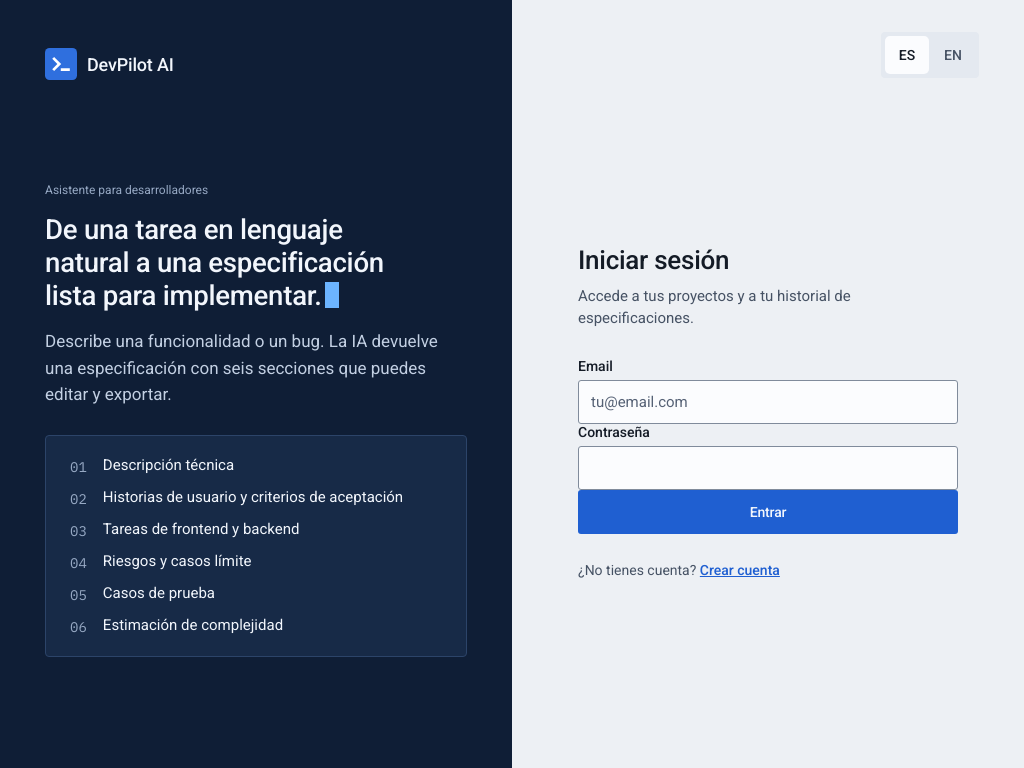
Scenario: signing in › stays on the login page with a generic message when the credentials are wrong
In the field labelled "Email": (768, 402) 578,380 -> 958,424, type "lucia@example.com"
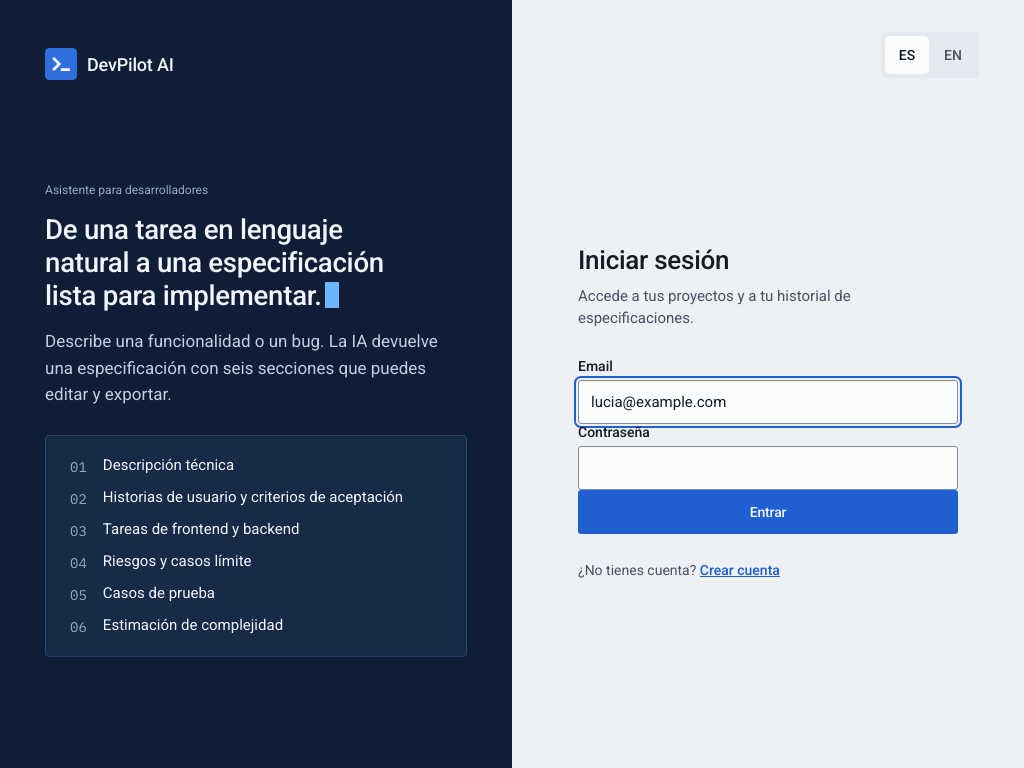
In the password field labelled "Contraseña": (768, 468) 578,446 -> 958,490, type "wrong password"
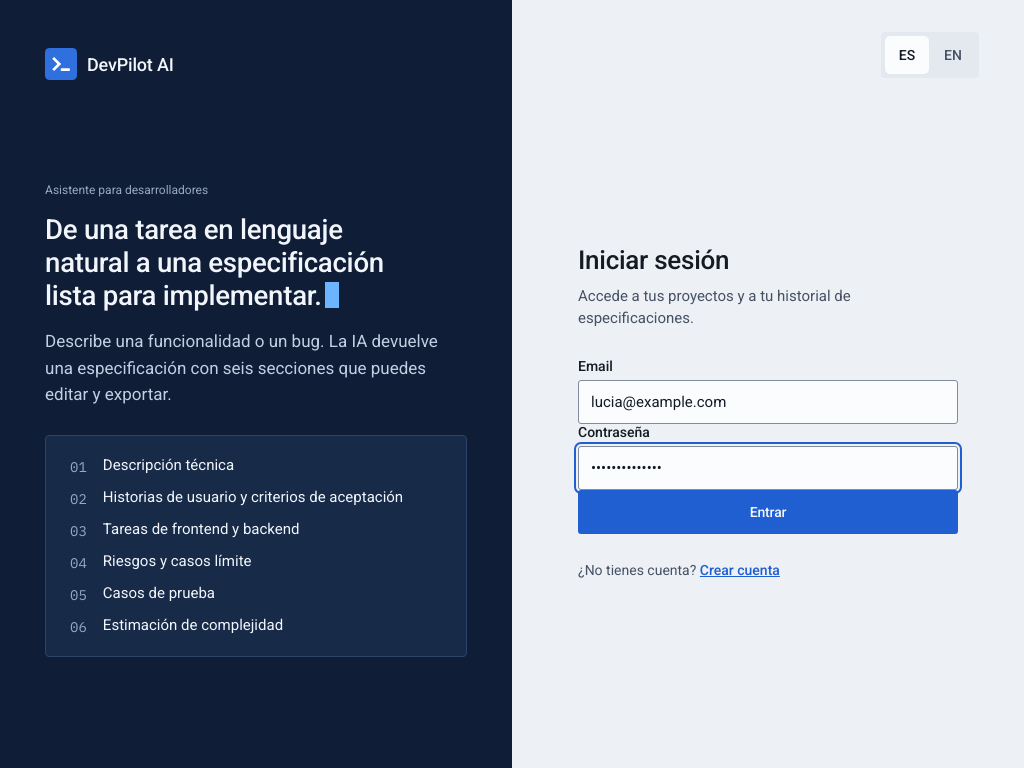
Click the button "Entrar": (768, 512) 578,490 -> 958,534
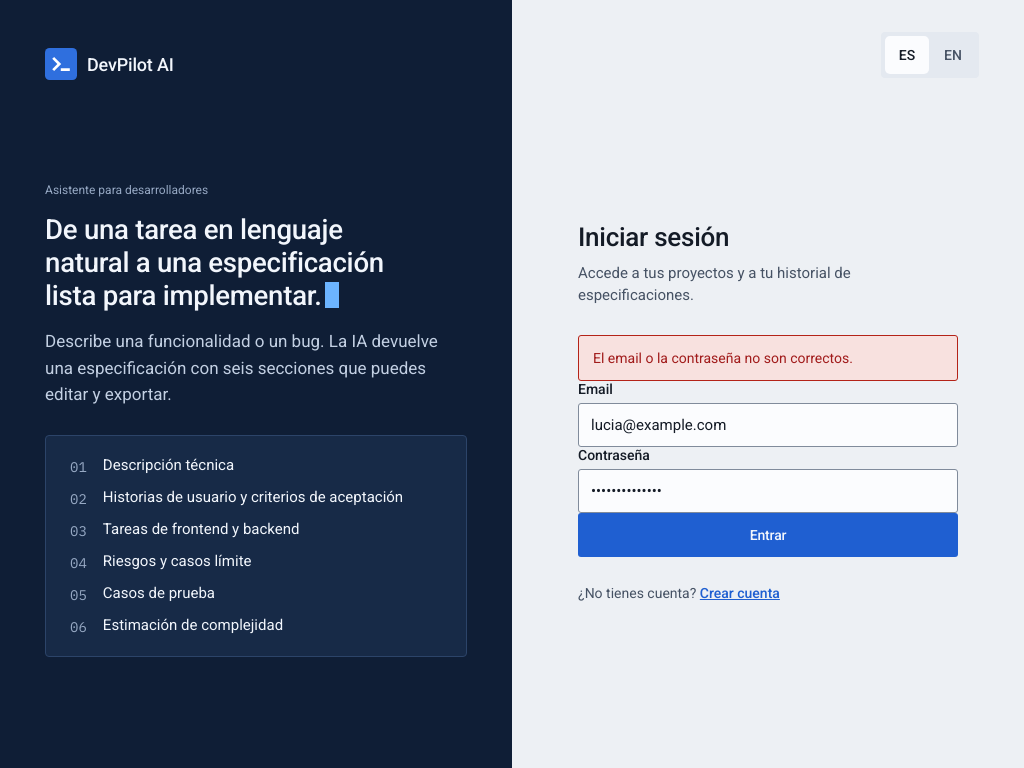
Expected: the heading "Iniciar sesión" is shown, 578,222 -> 729,252
Now the message reads "El email o la contraseña no son correctos.", box 593,350 -> 853,366
